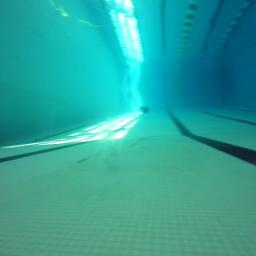Full: (140, 106, 149, 114)
